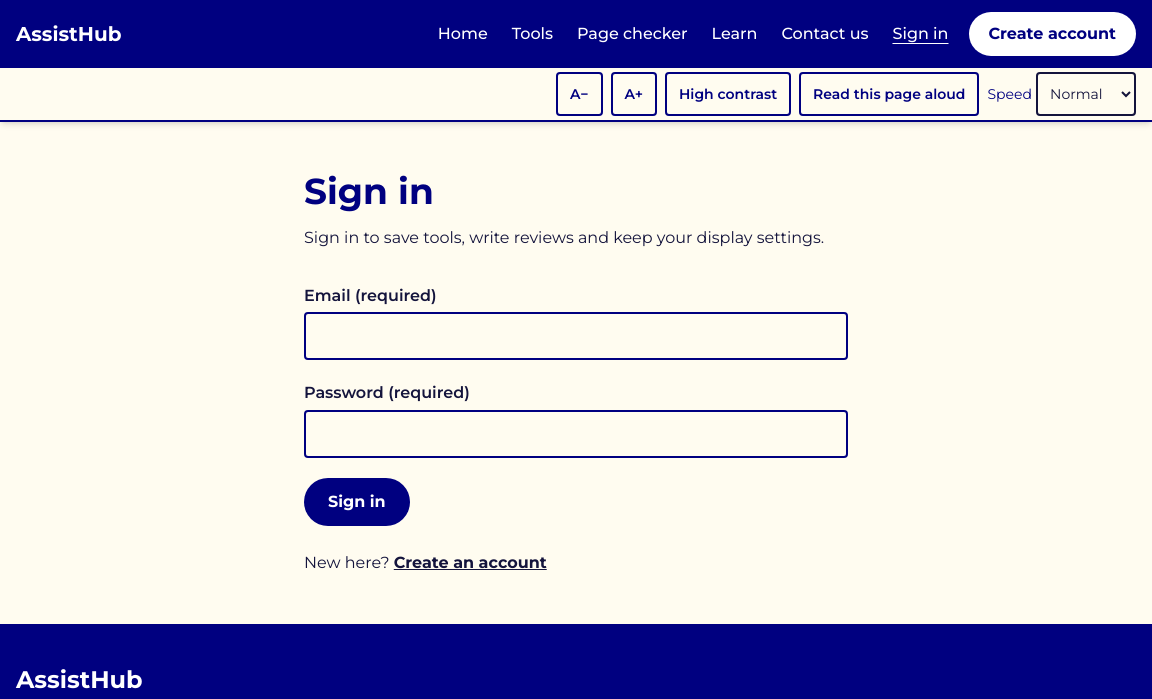
forms › signs in, stores the session and shows the account page
Type "a@example.com" into the field labelled "Email (required)" at (576, 336), box [304,312,848,360]
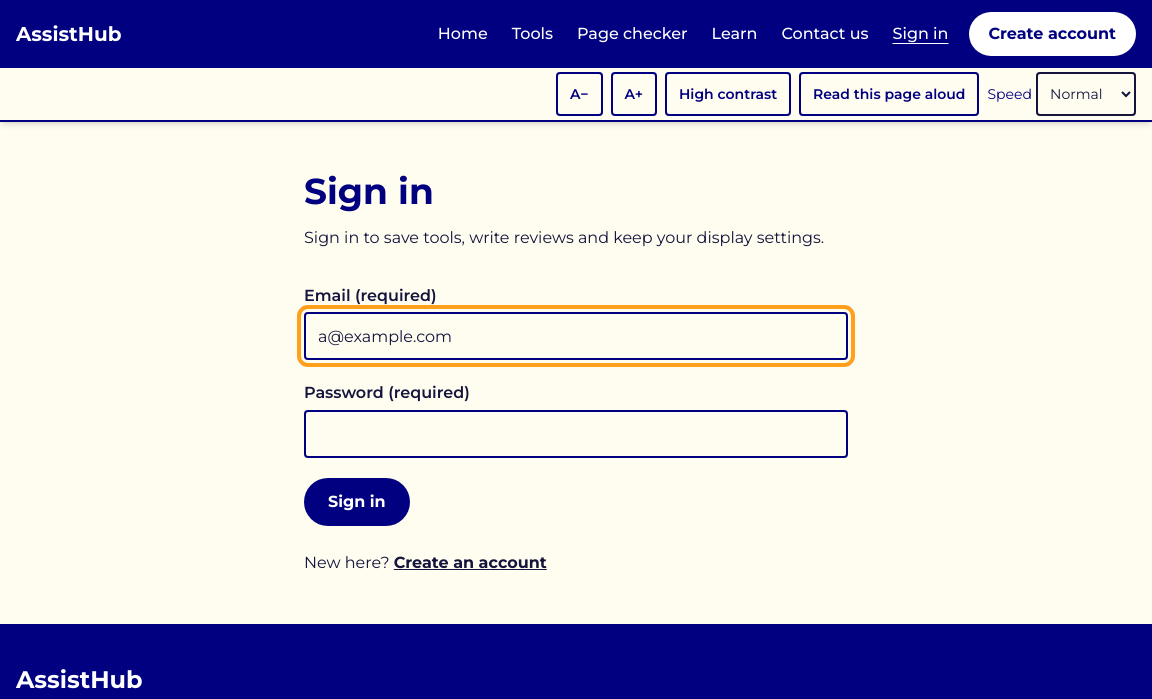
Type "longenough1" into the password field labelled "Password (required)" at (576, 434), box [304,410,848,458]
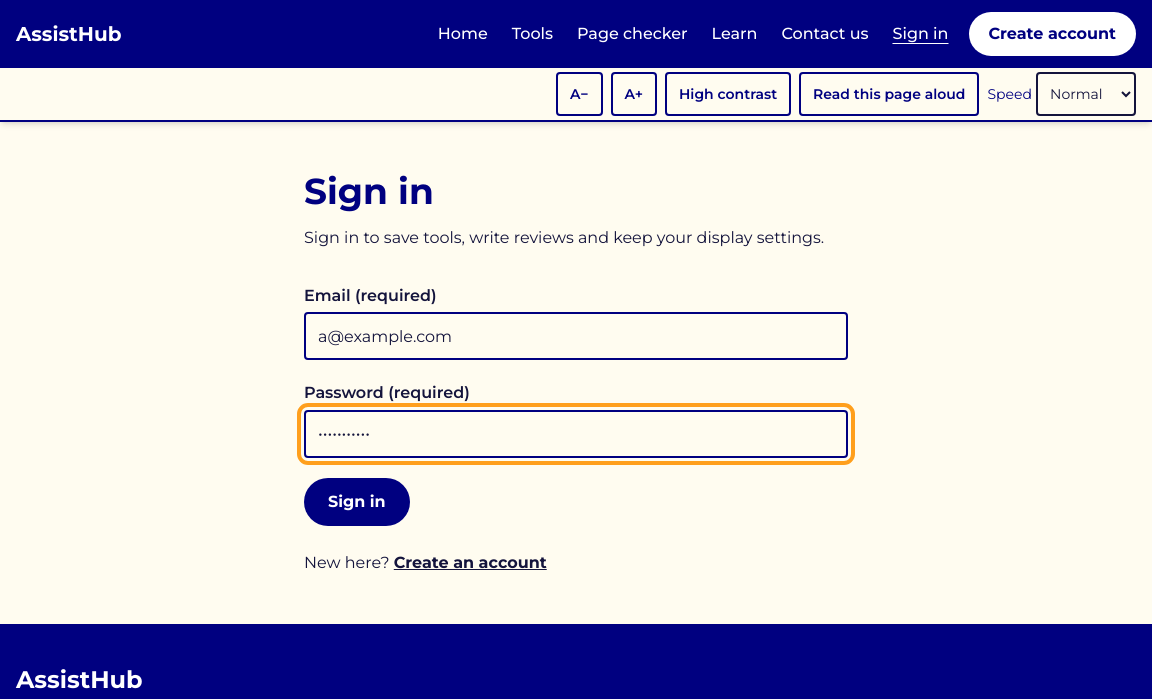
Click the button "Sign in" at (357, 502), box [304,478,410,526]
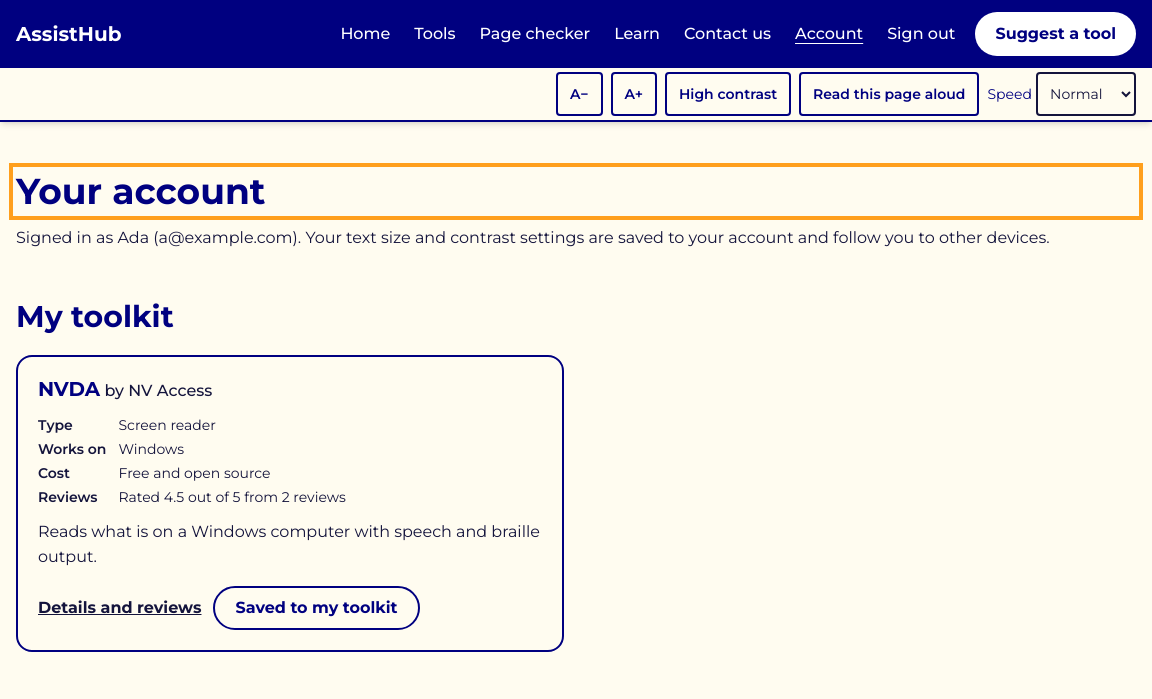
Check: the heading "Your account" is shown, box [16,169,266,213]
Check: the heading "NVDA by NV Access" is shown, box [38,377,212,401]
Check: the button "Sign out" is shown, box [879,12,964,56]
